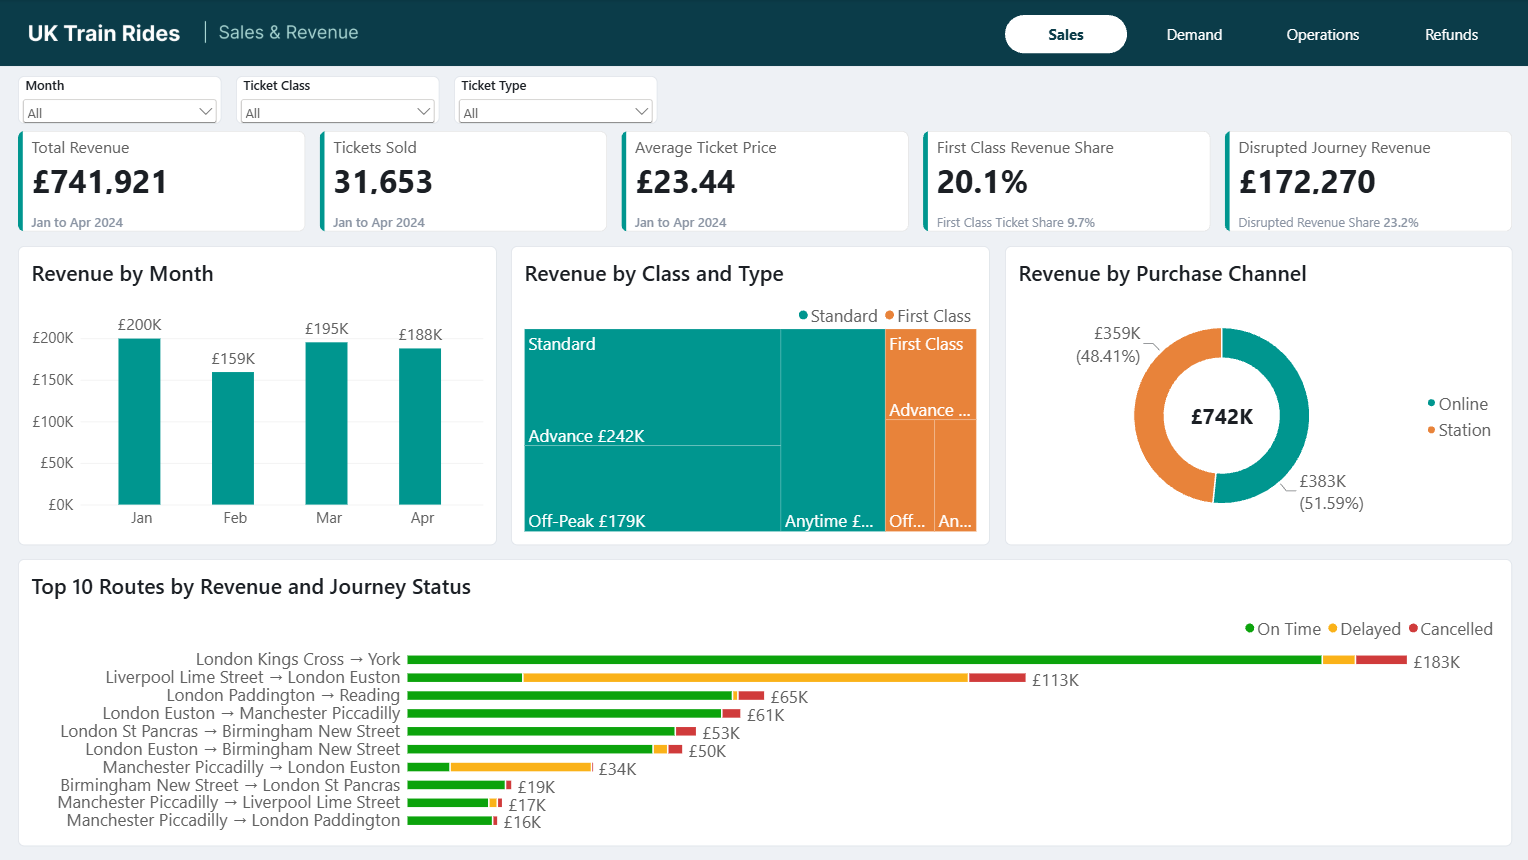

The dashboard page shown, as its layout file describes it:
{"tool":"powerbi","page":{"name":"Sales","canvas":[1920,1080],"ordinal":0},"visuals":[{"type":"cardVisual","fields":{"Data":["_Measures.Total Revenue","_Measures.Tickets Sold","_Measures.Average Ticket Price","_Measures.First Class Revenue Share","_Measures.Revenue on Disrupted Journeys"]},"box":[24,165,1872,126],"z":0},{"type":"slicer","fields":{"Values":["Dim_Date.Month Name"]},"box":[24,96,255,60],"z":1000},{"type":"slicer","fields":{"Values":["Dim_TicketClass.Ticket_Class"]},"box":[297,96,255,60],"z":2000},{"type":"slicer","fields":{"Values":["Dim_TicketType.Ticket_Type"]},"box":[570,96,255,60],"z":3000},{"type":"clusteredColumnChart","title":"Revenue by Month","fields":{"Category":["Dim_Date.Month Name"],"Y":["_Measures.Total Revenue"]},"box":[24,309,600,375],"z":4000},{"type":"treemap","title":"Revenue by Class and Type","fields":{"Details":["Dim_TicketType.Ticket_Type"],"Group":["Dim_TicketClass.Ticket_Class"],"Values":["_Measures.Total Revenue"]},"box":[642,309,600,375],"z":5000},{"type":"donutChart","title":"Revenue by Purchase Channel","fields":{"Category":["Dim_PurchaseType.Purchase_Type"],"Y":["_Measures.Total Revenue"]},"box":[1260,309,636,375],"z":6000},{"type":"barChart","title":"Top 10 Routes by Revenue and Journey Status","fields":{"Category":["Dim_Route.Route"],"Series":["Fact_Journey.Journey_Status"],"Y":["_Measures.Total Revenue"]},"box":[24,702,1872,360],"z":7000},{"type":"pageNavigator","box":[1260,20,636,48],"z":8000}]}

Visuals, with their boxes in screenshot pixels (x1, y1, x2, y2), scaled from the page's 1920x1080 canvas onto the 1528x860 screenshot:
cardVisual - _Measures.Total Revenue x _Measures.Tickets Sold: {"x1": 19, "y1": 131, "x2": 1509, "y2": 232}
slicer - Dim_Date.Month Name: {"x1": 19, "y1": 76, "x2": 222, "y2": 124}
slicer - Dim_TicketClass.Ticket_Class: {"x1": 236, "y1": 76, "x2": 439, "y2": 124}
slicer - Dim_TicketType.Ticket_Type: {"x1": 454, "y1": 76, "x2": 657, "y2": 124}
"Revenue by Month" clusteredColumnChart: {"x1": 19, "y1": 246, "x2": 497, "y2": 545}
"Revenue by Class and Type" treemap: {"x1": 511, "y1": 246, "x2": 988, "y2": 545}
"Revenue by Purchase Channel" donutChart: {"x1": 1003, "y1": 246, "x2": 1509, "y2": 545}
"Top 10 Routes by Revenue and Journey Status" barChart: {"x1": 19, "y1": 559, "x2": 1509, "y2": 846}
pageNavigator: {"x1": 1003, "y1": 16, "x2": 1509, "y2": 54}
